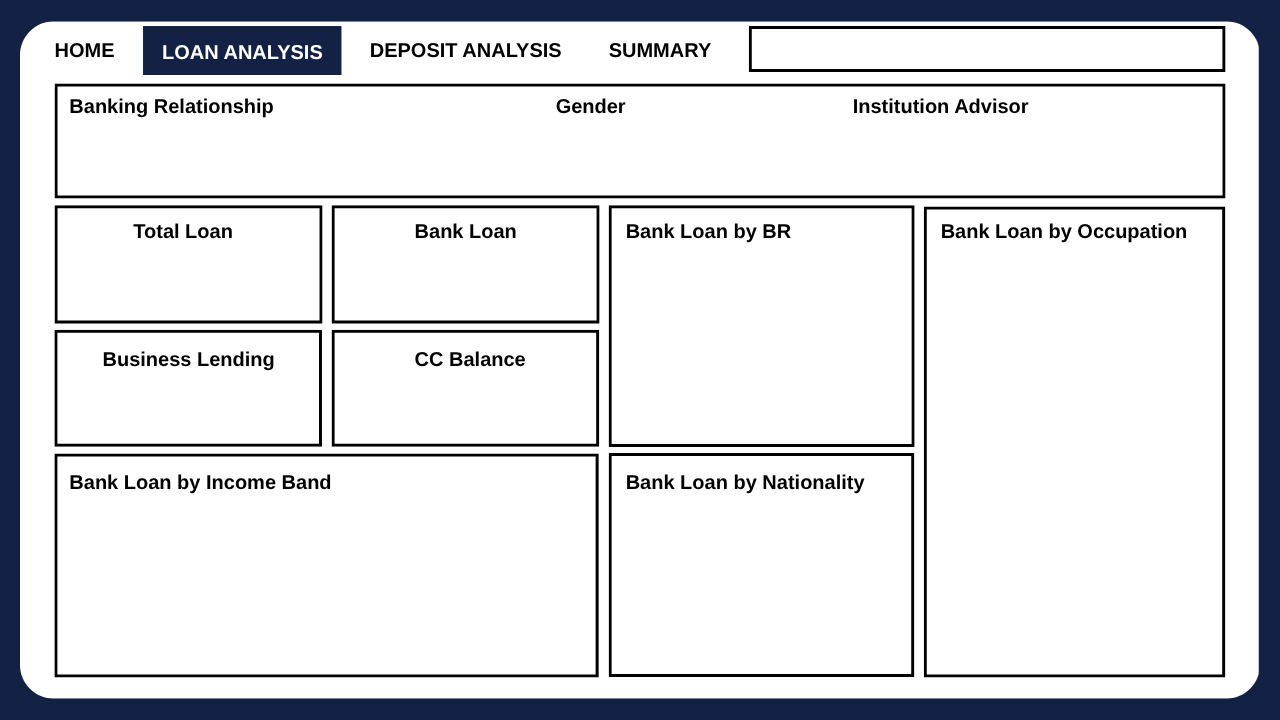

The page's visual inventory and layout, read from the dashboard file:
{"tool":"powerbi","page":{"name":"Loan Analysis","canvas":[1280,720],"ordinal":1},"visuals":[{"type":"slicer","fields":{"Values":["banking_case customer.Year of Joining"]},"box":[737.2,26.5,501.5,40.3],"z":0},{"type":"actionButton","box":[39.1,26.5,99.5,40.3],"z":1000},{"type":"actionButton","box":[362.9,26.5,206.7,40.3],"z":2000},{"type":"actionButton","box":[591,26.5,133.6,40.3],"z":3000},{"type":"card","fields":{"Values":["banking_case customer.Total Loan"]},"box":[75.6,240.7,211.7,70.6],"z":4000},{"type":"card","fields":{"Values":["Sum(banking_case customer.Bank Loans)"]},"box":[362.9,240.7,211.7,70.6],"z":5000},{"type":"card","fields":{"Values":["Sum(banking_case customer.Business Lending)"]},"box":[89.5,360.4,211.7,71.8],"z":6000},{"type":"card","fields":{"Values":["Sum(banking_case customer.Credit Card Balance)"]},"box":[357.9,361.6,211.7,70.6],"z":7000},{"type":"donutChart","fields":{"Category":["banking_case customer.Income Band"],"Y":["Sum(banking_case customer.Bank Loans)"]},"box":[89.5,488.9,466.2,178.9],"z":8000},{"type":"clusteredColumnChart","fields":{"Category":["banking_case customer.BRId"],"Y":["Sum(banking_case customer.Bank Loans)"]},"box":[626.3,249.5,272.2,182.7],"z":9000},{"type":"clusteredColumnChart","fields":{"Y":["Sum(banking_case customer.Bank Loans)"],"Category":["banking_case customer.Nationality"]},"box":[626.3,501.5,272.2,166.3],"z":10000},{"type":"clusteredColumnChart","fields":{"Category":["banking_case customer.BRId"],"Y":["Sum(banking_case customer.Bank Loans)"]},"box":[928.5,276.3,273.3,391],"z":11000},{"type":"slicer","fields":{"Values":["banking_case customer.BRId"]},"box":[61.7,127.3,446.1,55.4],"z":12000},{"type":"slicer","fields":{"Values":["banking_case customer.GenderId"]},"box":[526.7,126,263.4,56.7],"z":13000},{"type":"slicer","fields":{"Values":["banking_case customer.IAId"]},"box":[840.5,126,331.4,56.7],"z":14000}]}

Visuals, with their boxes in screenshot pixels (x1, y1, x2, y2), scaled from the page's 1280x720 canvas onto the 1280x720 screenshot:
slicer - banking_case customer.Year of Joining: [x1=737, y1=26, x2=1239, y2=67]
actionButton: [x1=39, y1=26, x2=139, y2=67]
actionButton: [x1=363, y1=26, x2=570, y2=67]
actionButton: [x1=591, y1=26, x2=725, y2=67]
card - banking_case customer.Total Loan: [x1=76, y1=241, x2=287, y2=311]
card - Sum(banking_case customer.Bank Loans): [x1=363, y1=241, x2=575, y2=311]
card - Sum(banking_case customer.Business Lending): [x1=90, y1=360, x2=301, y2=432]
card - Sum(banking_case customer.Credit Card Balance): [x1=358, y1=362, x2=570, y2=432]
donutChart - banking_case customer.Income Band x Sum(banking_case customer.Bank Loans): [x1=90, y1=489, x2=556, y2=668]
clusteredColumnChart - banking_case customer.BRId x Sum(banking_case customer.Bank Loans): [x1=626, y1=250, x2=898, y2=432]
clusteredColumnChart - Sum(banking_case customer.Bank Loans) x banking_case customer.Nationality: [x1=626, y1=502, x2=898, y2=668]
clusteredColumnChart - banking_case customer.BRId x Sum(banking_case customer.Bank Loans): [x1=928, y1=276, x2=1202, y2=667]
slicer - banking_case customer.BRId: [x1=62, y1=127, x2=508, y2=183]
slicer - banking_case customer.GenderId: [x1=527, y1=126, x2=790, y2=183]
slicer - banking_case customer.IAId: [x1=840, y1=126, x2=1172, y2=183]
